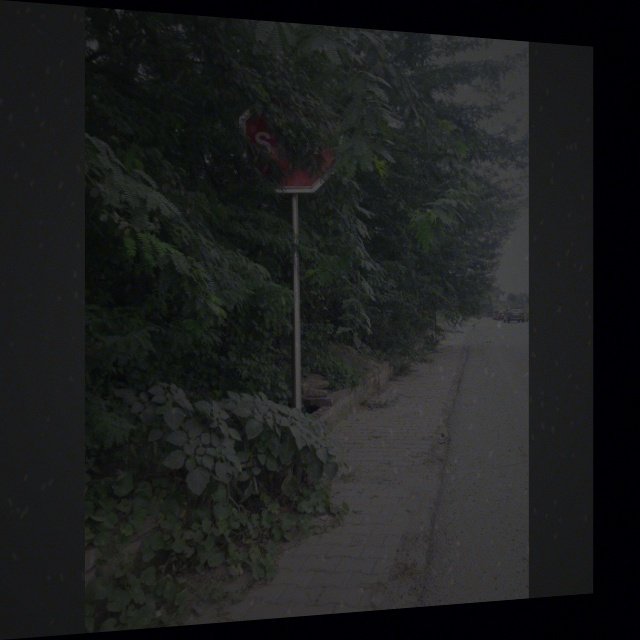Stop: (239, 95, 334, 195)
